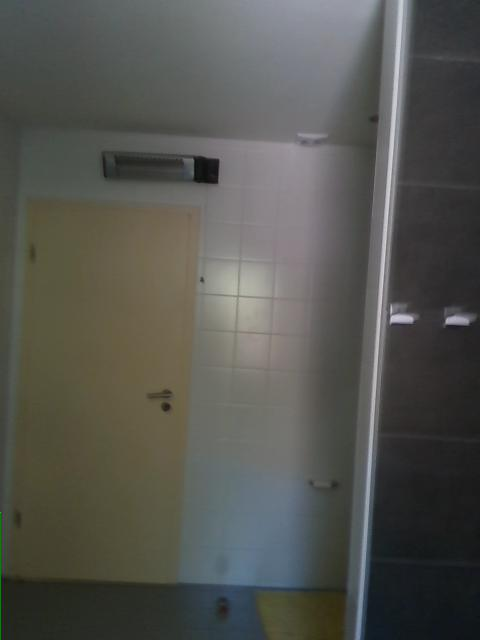door: (9, 201, 198, 584)
